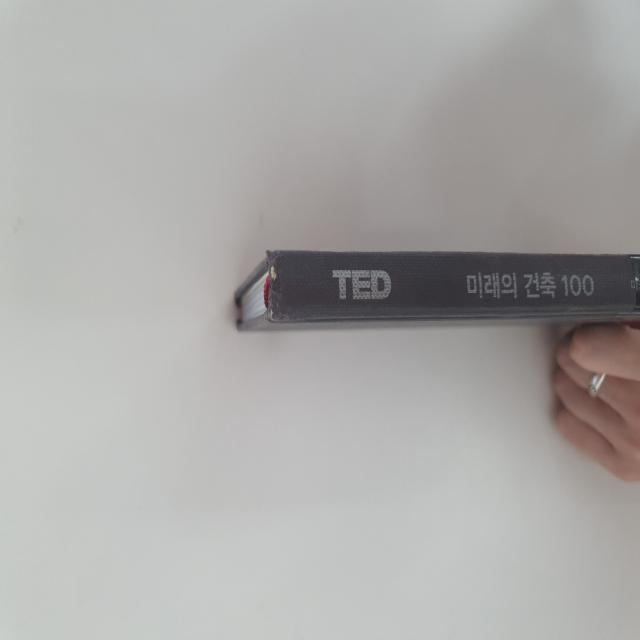Wornout: (261, 246, 293, 328)
